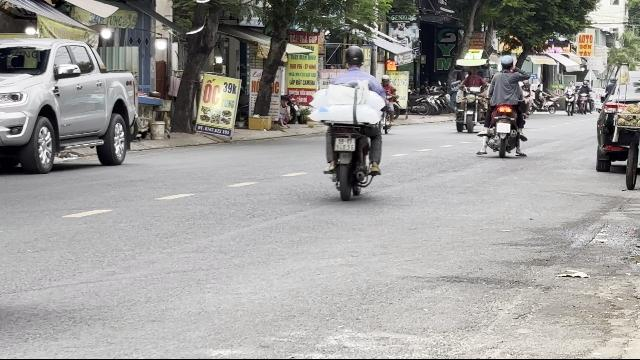helmet: (344, 44, 364, 68)
licenseplate: (335, 138, 355, 150)
motorcyclist: (308, 44, 388, 200)
